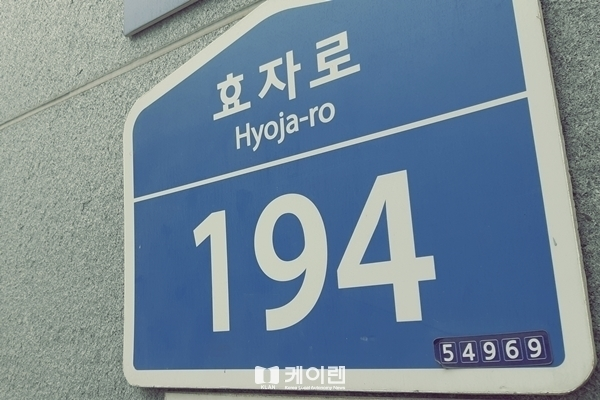building_license_plate1: (123, 1, 600, 395)
